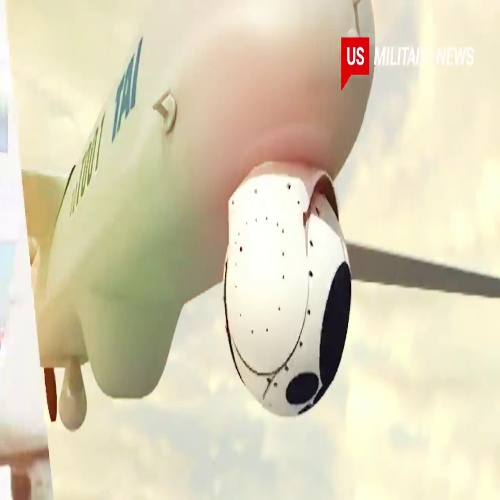uav: (3, 1, 500, 433)
